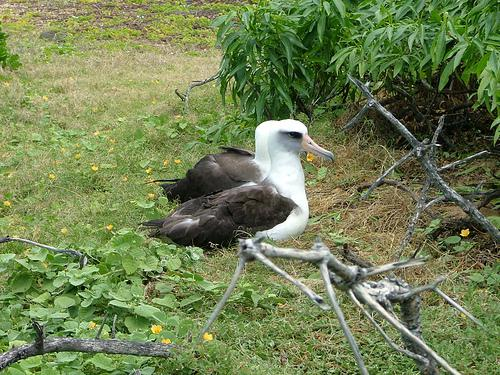002.Laysan_Albatross: (139, 117, 334, 260), (154, 120, 275, 206)
